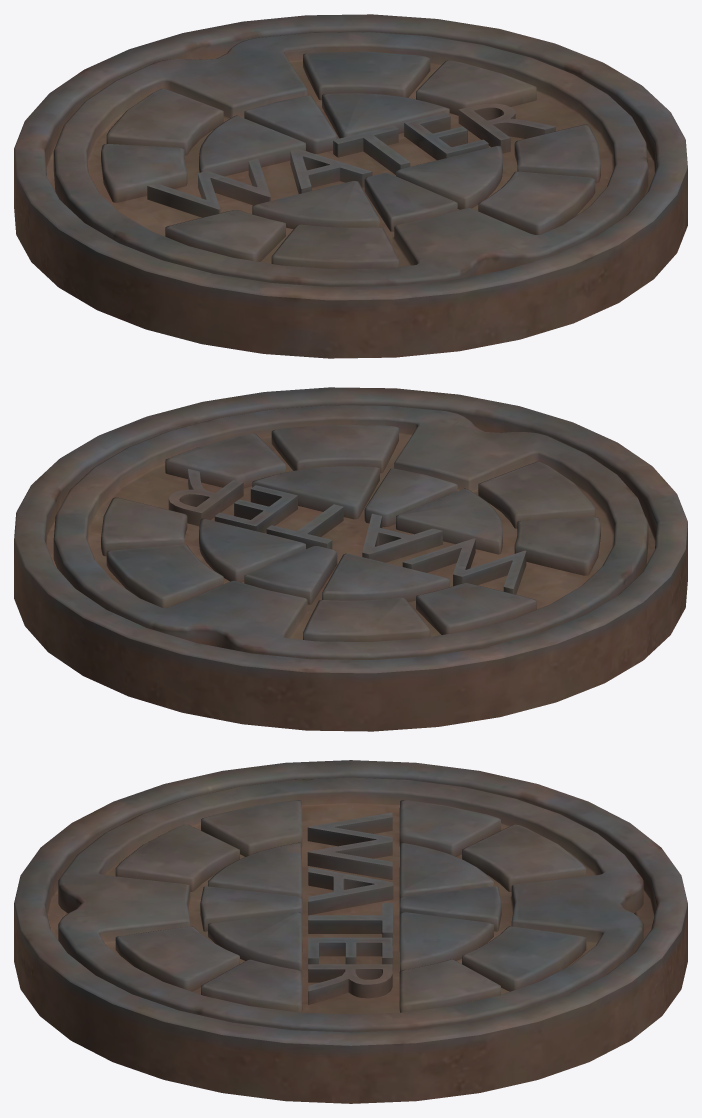
Rendered from water_manhole_cover.glb.
3 views of the same model, one above another, from view 1: azimuth 30°, elevation 25°; view 2: azimuth 150°, elevation 25°; view 3: azimuth 270°, elevation 25° (orthographic).
Parts seen in each view (by area): view 1: water_manhole_cover, water_manhole_cover_frame; view 2: water_manhole_cover, water_manhole_cover_frame; view 3: water_manhole_cover, water_manhole_cover_frame.
Boxes of the visible parts, x1=… form: water_manhole_cover: x1=53, y1=32, x2=648, y2=286; water_manhole_cover_frame: x1=14, y1=14, x2=687, y2=358; water_manhole_cover: x1=53, y1=405, x2=648, y2=659; water_manhole_cover_frame: x1=14, y1=387, x2=687, y2=731; water_manhole_cover: x1=58, y1=777, x2=643, y2=1032; water_manhole_cover_frame: x1=14, y1=760, x2=687, y2=1103.
Bounding box in the file's own units: 0.6908 × 0.0676 × 0.6908.
1 material, 1 textured.
